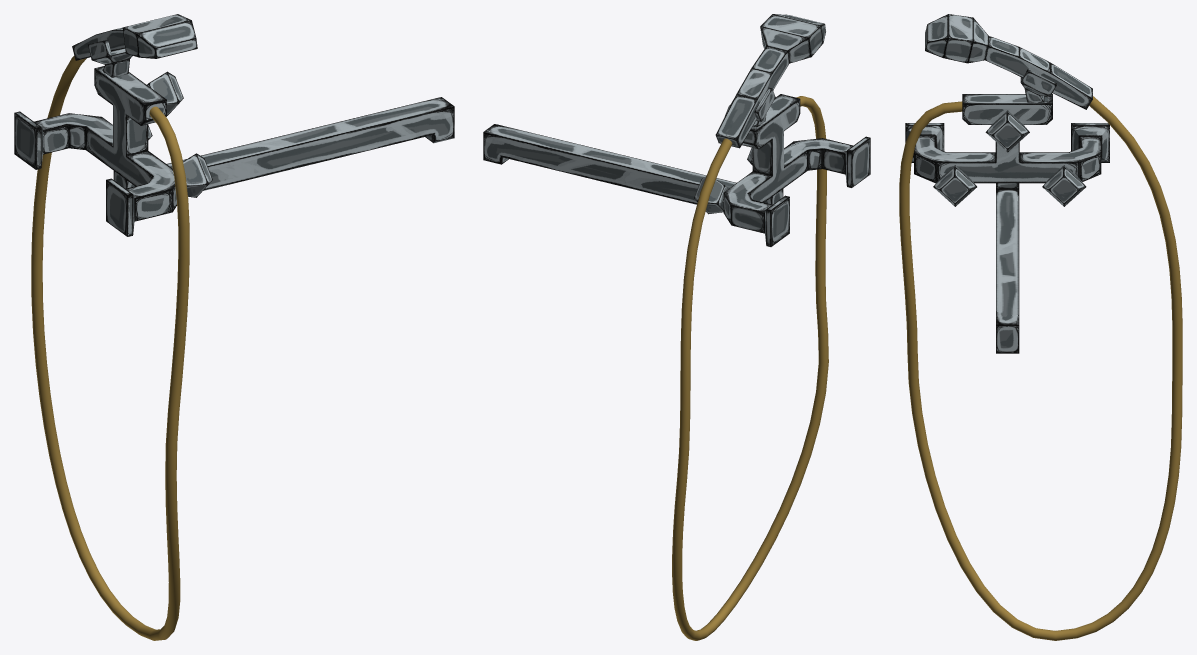
Rendered from watertap_bath.fbx.
3 renders of one model, left to right at view 1: azimuth 30°, elevation 25°; view 2: azimuth 150°, elevation 25°; view 3: azimuth 270°, elevation 25°, orthographic. The views are drawn at different scales.
Parts seen in each view (by area): view 1: hose_shower, watertap_bath, watertap_bath_spout, shower_leika, derzalka, watertap_left.006, watertap_left.003; view 2: hose_shower, watertap_bath, watertap_bath_spout, shower_leika, watertap_left.002; view 3: hose_shower, watertap_bath, shower_leika, watertap_bath_spout, watertap_left.003, watertap_left.002, watertap_left.006, derzalka.
Part boxes in pixels (box(x1,y1,x2,y2)): hose_shower: box(31, 56, 189, 640); watertap_bath: box(14, 66, 176, 236); watertap_bath_spout: box(113, 97, 454, 190); shower_leika: box(72, 14, 197, 60); derzalka: box(88, 39, 132, 77); watertap_left.006: box(183, 153, 212, 197); watertap_left.003: box(147, 71, 183, 115); hose_shower: box(672, 96, 828, 640); watertap_bath: box(723, 94, 870, 246); watertap_bath_spout: box(483, 124, 783, 204); shower_leika: box(715, 14, 825, 148); watertap_left.002: box(694, 176, 727, 214); hose_shower: box(899, 96, 1182, 640); watertap_bath: box(905, 94, 1109, 183); shower_leika: box(925, 14, 1092, 109); watertap_bath_spout: box(996, 183, 1019, 353); watertap_left.003: box(985, 110, 1029, 152); watertap_left.002: box(1042, 165, 1086, 206); watertap_left.006: box(933, 165, 976, 206); derzalka: box(1020, 69, 1056, 102).
Bounding box in the file's own units: 0.7582 × 1.27 × 0.5465.
